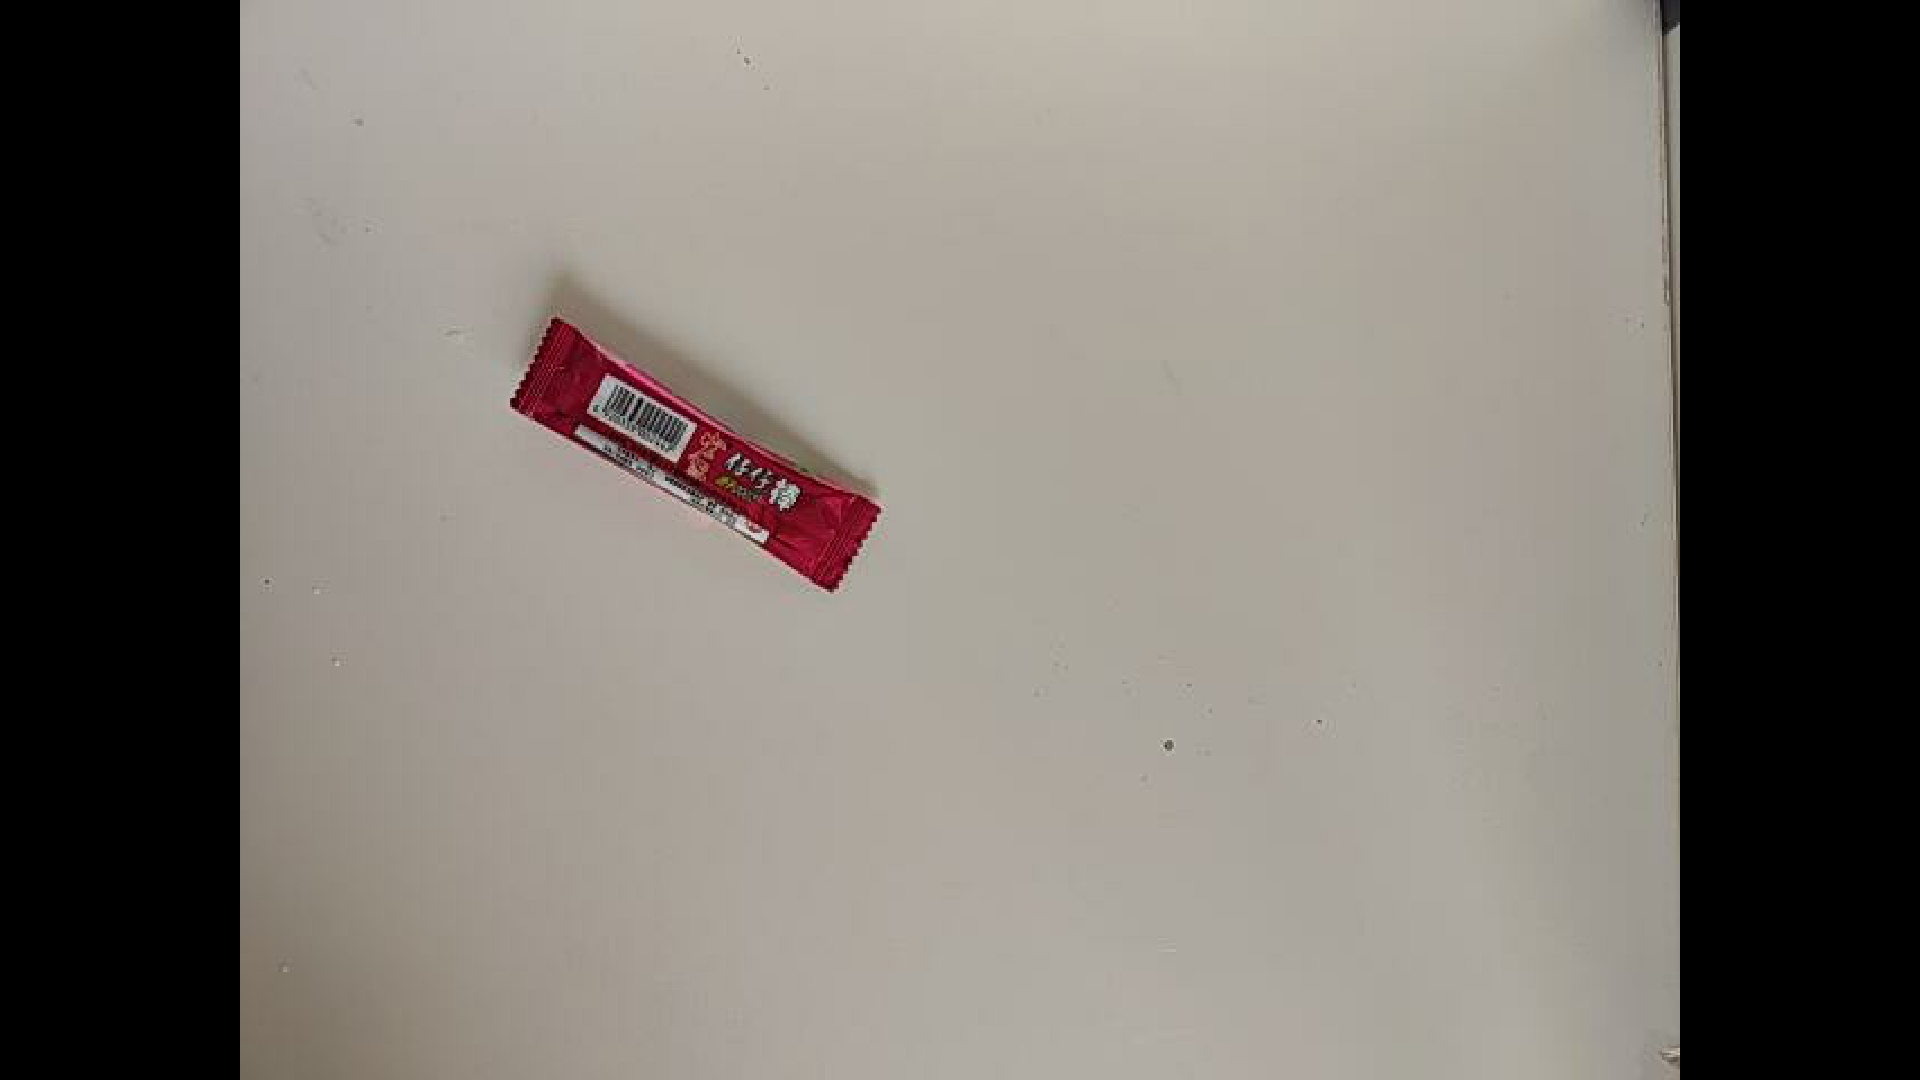sugar: (459, 313, 889, 514)
